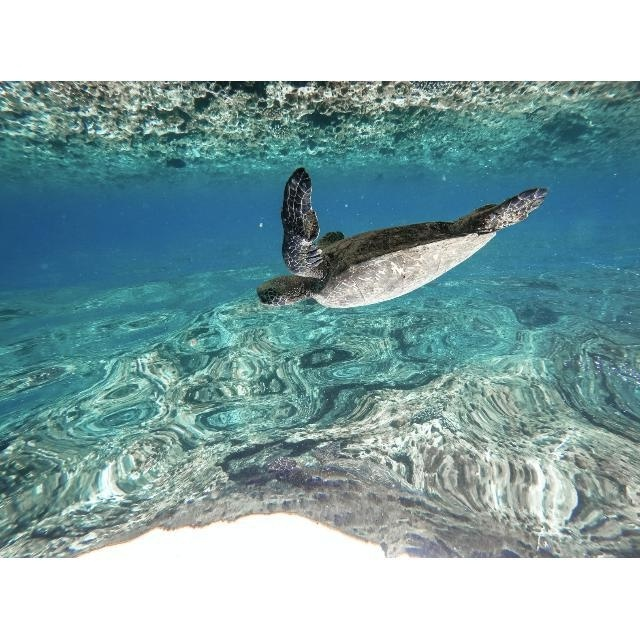turtle: (257, 166, 551, 310)
